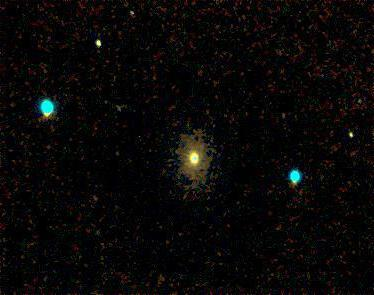star: (78, 180, 108, 210)
